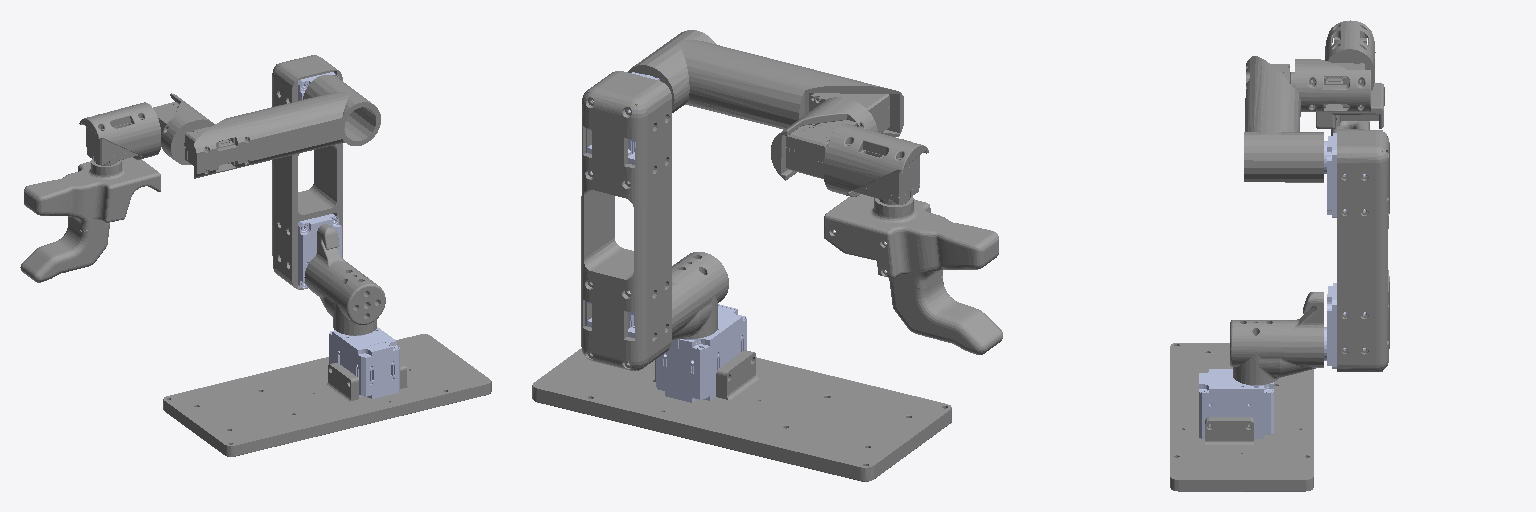
The robot description file, URDF, robot "gello_active":
<?xml version="1.0" encoding="utf-8"?>
<!-- This URDF was automatically created by SolidWorks to URDF Exporter! Originally created by [author] ([email redacted]) 
     Commit Version: 1.6.0-4-g7f85cfe  Build Version: 1.6.7995.38578
     For more information, please see http://wiki.ros.org/sw_urdf_exporter -->
<robot
  name="gello_active">
  <link
    name="base_link">
    <inertial>
      <origin
        xyz="0.00607992357022163 0.00301681012562898 -0.0120084237052049"
        rpy="0 0 0" />
      <mass
        value="0.141701823329413" />
      <inertia
        ixx="9.16590245869373E-05"
        ixy="4.41747452799809E-07"
        ixz="-1.46076004773529E-06"
        iyy="0.000464772999996468"
        iyz="4.39975233128003E-07"
        izz="0.000553493733719803" />
    </inertial>
    <visual>
      <origin
        xyz="0 0 0"
        rpy="0 0 0" />
      <geometry>
        <mesh
          filename="package://gello_active/meshes/base_link.STL" />
      </geometry>
      <material
        name="">
        <color
          rgba="0.627450980392157 0.627450980392157 0.627450980392157 1" />
      </material>
    </visual>
    <collision>
      <origin
        xyz="0 0 0"
        rpy="0 0 0" />
      <geometry>
        <mesh
          filename="package://gello_active/meshes/base_link.STL" />
      </geometry>
    </collision>
  </link>
  <link
    name="xl430_1">
    <inertial>
      <origin
        xyz="1.5967816055059E-05 -0.0231678735095451 0.189804632480122"
        rpy="0 0 0" />
      <mass
        value="0.0422899908141637" />
      <inertia
        ixx="1.14363623470572E-05"
        ixy="2.19257344028899E-08"
        ixz="1.93744470134444E-08"
        iyy="6.66551225129734E-06"
        iyz="-3.26219221789726E-07"
        izz="1.03632749606566E-05" />
    </inertial>
    <visual>
      <origin
        xyz="0 0 0"
        rpy="0 0 0" />
      <geometry>
        <mesh
          filename="package://gello_active/meshes/xl430_1.STL" />
      </geometry>
      <material
        name="">
        <color
          rgba="0.792156862745098 0.819607843137255 0.933333333333333 1" />
      </material>
    </visual>
    <collision>
      <origin
        xyz="0 0 0"
        rpy="0 0 0" />
      <geometry>
        <mesh
          filename="package://gello_active/meshes/xl430_1.STL" />
      </geometry>
    </collision>
  </link>
  <joint
    name="base_fix_joint"
    type="fixed">
    <origin
      xyz="0.031148 0.02289 -0.18013"
      rpy="0 0 0" />
    <parent
      link="base_link" />
    <child
      link="xl430_1" />
    <axis
      xyz="0 0 0" />
  </joint>
  <link
    name="L1">
    <inertial>
      <origin
        xyz="0.0131095359774512 0.0200185962795386 3.85052656877438E-08"
        rpy="0 0 0" />
      <mass
        value="0.0422302330046642" />
      <inertia
        ixx="7.36420707897911E-06"
        ixy="-2.04999859782137E-06"
        ixz="4.80873013798741E-11"
        iyy="1.39050823217511E-05"
        iyz="-9.88240135826397E-13"
        izz="1.64424364389766E-05" />
    </inertial>
    <visual>
      <origin
        xyz="0 0 0"
        rpy="0 0 0" />
      <geometry>
        <mesh
          filename="package://gello_active/meshes/L1.STL" />
      </geometry>
      <material
        name="">
        <color
          rgba="0.627450980392157 0.627450980392157 0.627450980392157 1" />
      </material>
    </visual>
    <collision>
      <origin
        xyz="0 0 0"
        rpy="0 0 0" />
      <geometry>
        <mesh
          filename="package://gello_active/meshes/L1.STL" />
      </geometry>
    </collision>
  </link>
  <joint
    name="shoulder_pan_joint"
    type="continuous">
    <origin
      xyz="0 -0.011 0.20764"
      rpy="1.5708 0 1.5588" />
    <parent
      link="xl430_1" />
    <child
      link="L1" />
    <axis
      xyz="0 1 0" />
  </joint>
  <link
    name="xl430_2">
    <inertial>
      <origin
        xyz="1.59678160428812E-05 -0.0121678735095403 -0.0205450583333916"
        rpy="0 0 0" />
      <mass
        value="0.0422899908141372" />
      <inertia
        ixx="1.14363623457656E-05"
        ixy="2.19257342941186E-08"
        ixz="1.93744470209128E-08"
        iyy="6.6655122500993E-06"
        iyz="-3.26219221776539E-07"
        izz="1.03632749584015E-05" />
    </inertial>
    <visual>
      <origin
        xyz="0 0 0"
        rpy="0 0 0" />
      <geometry>
        <mesh
          filename="package://gello_active/meshes/xl430_2.STL" />
      </geometry>
      <material
        name="">
        <color
          rgba="0.792156862745098 0.819607843137255 0.933333333333333 1" />
      </material>
    </visual>
    <collision>
      <origin
        xyz="0 0 0"
        rpy="0 0 0" />
      <geometry>
        <mesh
          filename="package://gello_active/meshes/xl430_2.STL" />
      </geometry>
    </collision>
  </link>
  <joint
    name="shoulder_lift_joint"
    type="continuous">
    <origin
      xyz="0.03915 0.021935 0"
      rpy="1.5708 1.5675 -1.5708" />
    <parent
      link="L1" />
    <child
      link="xl430_2" />
    <axis
      xyz="0 0 1" />
  </joint>
  <link
    name="L2">
    <inertial>
      <origin
        xyz="0.0177542994227649 2.65439271743273E-08 -0.0453750285135328"
        rpy="0 0 0" />
      <mass
        value="0.0546858829355452" />
      <inertia
        ixx="0.000116370950741875"
        ixy="1.81389221602465E-11"
        ixz="-2.92213419206246E-11"
        iyy="0.000110173032075185"
        iyz="6.97646032473169E-11"
        izz="1.63865438538971E-05" />
    </inertial>
    <visual>
      <origin
        xyz="0 0 0"
        rpy="0 0 0" />
      <geometry>
        <mesh
          filename="package://gello_active/meshes/L2.STL" />
      </geometry>
      <material
        name="">
        <color
          rgba="0.627450980392157 0.627450980392157 0.627450980392157 1" />
      </material>
    </visual>
    <collision>
      <origin
        xyz="0 0 0"
        rpy="0 0 0" />
      <geometry>
        <mesh
          filename="package://gello_active/meshes/L2.STL" />
      </geometry>
    </collision>
  </link>
  <joint
    name="L2_fix_joint_1"
    type="fixed">
    <origin
      xyz="0 -0.0178 -0.04565"
      rpy="1.5708 -1.5708 3.14" />
    <parent
      link="xl430_2" />
    <child
      link="L2" />
    <axis
      xyz="0 0 0" />
  </joint>
  <link
    name="xl430_3">
    <inertial>
      <origin
        xyz="1.59678160644369E-05 -0.0231678735095394 0.189804632480152"
        rpy="0 0 0" />
      <mass
        value="0.0422899908141366" />
      <inertia
        ixx="1.14363623457538E-05"
        ixy="2.19257343254807E-08"
        ixz="1.93744470444507E-08"
        iyy="6.66551225006578E-06"
        iyz="-3.26219221780501E-07"
        izz="1.03632749583609E-05" />
    </inertial>
    <visual>
      <origin
        xyz="0 0 0"
        rpy="0 0 0" />
      <geometry>
        <mesh
          filename="package://gello_active/meshes/xl430_3.STL" />
      </geometry>
      <material
        name="">
        <color
          rgba="0.792156862745098 0.819607843137255 0.933333333333333 1" />
      </material>
    </visual>
    <collision>
      <origin
        xyz="0 0 0"
        rpy="0 0 0" />
      <geometry>
        <mesh
          filename="package://gello_active/meshes/xl430_3.STL" />
      </geometry>
    </collision>
  </link>
  <joint
    name="L2_fix_joint_2"
    type="fixed">
    <origin
      xyz="-0.1647 0 -0.11955"
      rpy="-1.5708 0 -1.5708" />
    <parent
      link="L2" />
    <child
      link="xl430_3" />
    <axis
      xyz="0 0 0" />
  </joint>
  <link
    name="L3">
    <inertial>
      <origin
        xyz="-0.0301727625382926 7.29364901808083E-09 0.0367965289329686"
        rpy="0 0 0" />
      <mass
        value="0.0492342604004969" />
      <inertia
        ixx="6.65552530347298E-05"
        ixy="-2.34601443151155E-10"
        ixz="1.10060129110157E-05"
        iyy="7.13375971649568E-05"
        iyz="-8.67163895975908E-11"
        izz="1.44416116216454E-05" />
    </inertial>
    <visual>
      <origin
        xyz="0 0 0"
        rpy="0 0 0" />
      <geometry>
        <mesh
          filename="package://gello_active/meshes/L3.STL" />
      </geometry>
      <material
        name="">
        <color
          rgba="0.627450980392157 0.627450980392157 0.627450980392157 1" />
      </material>
    </visual>
    <collision>
      <origin
        xyz="0 0 0"
        rpy="0 0 0" />
      <geometry>
        <mesh
          filename="package://gello_active/meshes/L3.STL" />
      </geometry>
    </collision>
  </link>
  <joint
    name="elbow_joint"
    type="continuous">
    <origin
      xyz="0 -0.011 0.20635"
      rpy="3.1391 1.5708 0" />
    <parent
      link="xl430_3" />
    <child
      link="L3" />
    <axis
      xyz="1 0 0" />
  </joint>
  <link
    name="xl330_1">
    <inertial>
      <origin
        xyz="0.075420933410812 0.0347673256207063 0.382628050770604"
        rpy="0 0 0" />
      <mass
        value="0.0152279846230564" />
      <inertia
        ixx="2.17665876063418E-06"
        ixy="4.53367975855433E-10"
        ixz="3.44547193193838E-10"
        iyy="1.18539413924355E-06"
        iyz="3.78846786423317E-08"
        izz="1.9254867966804E-06" />
    </inertial>
    <visual>
      <origin
        xyz="0 0 0"
        rpy="0 0 0" />
      <geometry>
        <mesh
          filename="package://gello_active/meshes/xl330_1.STL" />
      </geometry>
      <material
        name="">
        <color
          rgba="0.627450980392157 0.627450980392157 0.627450980392157 1" />
      </material>
    </visual>
    <collision>
      <origin
        xyz="0 0 0"
        rpy="0 0 0" />
      <geometry>
        <mesh
          filename="package://gello_active/meshes/xl330_1.STL" />
      </geometry>
    </collision>
  </link>
  <joint
    name="L3_fix_joint"
    type="fixed">
    <origin
      xyz="-0.4171 0.075425 0.13419"
      rpy="-1.5708 0 -1.5708" />
    <parent
      link="L3" />
    <child
      link="xl330_1" />
    <axis
      xyz="0 0 0" />
  </joint>
  <link
    name="L4">
    <inertial>
      <origin
        xyz="-0.000477072229915942 0.00401650330059737 0.0139990913771146"
        rpy="0 0 0" />
      <mass
        value="0.0140660643273876" />
      <inertia
        ixx="3.63687535667914E-06"
        ixy="-9.74097096280489E-11"
        ixz="-2.49888518797472E-10"
        iyy="3.33041431373118E-06"
        iyz="-8.98088497865558E-07"
        izz="2.39230639555156E-06" />
    </inertial>
    <visual>
      <origin
        xyz="0 0 0"
        rpy="0 0 0" />
      <geometry>
        <mesh
          filename="package://gello_active/meshes/L4.STL" />
      </geometry>
      <material
        name="">
        <color
          rgba="0.627450980392157 0.627450980392157 0.627450980392157 1" />
      </material>
    </visual>
    <collision>
      <origin
        xyz="0 0 0"
        rpy="0 0 0" />
      <geometry>
        <mesh
          filename="package://gello_active/meshes/L4.STL" />
      </geometry>
    </collision>
  </link>
  <joint
    name="wrist1_joint"
    type="continuous">
    <origin
      xyz="0.075425 0.027592 0.39603"
      rpy="0 0 -0.0253" />
    <parent
      link="xl330_1" />
    <child
      link="L4" />
    <axis
      xyz="0 0 1" />
  </joint>
  <link
    name="xl330_2">
    <inertial>
      <origin
        xyz="0.0754209334106387 0.0347673256204681 0.38262805076857"
        rpy="0 0 0" />
      <mass
        value="0.0152279846189667" />
      <inertia
        ixx="2.17665876004823E-06"
        ixy="4.53367993856033E-10"
        ixz="3.44547213162623E-10"
        iyy="1.18539413891491E-06"
        iyz="3.7884678633927E-08"
        izz="1.92548679613301E-06" />
    </inertial>
    <visual>
      <origin
        xyz="0 0 0"
        rpy="0 0 0" />
      <geometry>
        <mesh
          filename="package://gello_active/meshes/xl330_2.STL" />
      </geometry>
      <material
        name="">
        <color
          rgba="0.627450980392157 0.627450980392157 0.627450980392157 1" />
      </material>
    </visual>
    <collision>
      <origin
        xyz="0 0 0"
        rpy="0 0 0" />
      <geometry>
        <mesh
          filename="package://gello_active/meshes/xl330_2.STL" />
      </geometry>
    </collision>
  </link>
  <joint
    name="L4_fix_joint"
    type="fixed">
    <origin
      xyz="0.07495 0.38155 0.061433"
      rpy="-1.5708 0 -3.1416" />
    <parent
      link="L4" />
    <child
      link="xl330_2" />
    <axis
      xyz="0 0 0" />
  </joint>
  <link
    name="L5">
    <inertial>
      <origin
        xyz="-0.00366525305716781 -0.0146866156468189 -5.58749708168271E-08"
        rpy="0 0 0" />
      <mass
        value="0.0143126365472127" />
      <inertia
        ixx="3.29740959153761E-06"
        ixy="-7.98147494033704E-07"
        ixz="-1.40516069342754E-11"
        iyy="2.50168725783588E-06"
        iyz="-9.74587155325639E-12"
        izz="3.45618139699858E-06" />
    </inertial>
    <visual>
      <origin
        xyz="0 0 0"
        rpy="0 0 0" />
      <geometry>
        <mesh
          filename="package://gello_active/meshes/L5.STL" />
      </geometry>
      <material
        name="">
        <color
          rgba="0.627450980392157 0.627450980392157 0.627450980392157 1" />
      </material>
    </visual>
    <collision>
      <origin
        xyz="0 0 0"
        rpy="0 0 0" />
      <geometry>
        <mesh
          filename="package://gello_active/meshes/L5.STL" />
      </geometry>
    </collision>
  </link>
  <joint
    name="wrist2_joint"
    type="continuous">
    <origin
      xyz="0.075425 0.027592 0.39554"
      rpy="-1.5708 0 0.0015559" />
    <parent
      link="xl330_2" />
    <child
      link="L5" />
    <axis
      xyz="0 1 0" />
  </joint>
  <link
    name="xl330_3">
    <inertial>
      <origin
        xyz="0.0754209334109733 0.034767325620958 0.382628050772475"
        rpy="0 0 0" />
      <mass
        value="0.0152279846267835" />
      <inertia
        ixx="2.17665876117142E-06"
        ixy="4.53367959448234E-10"
        ixz="3.4454717404982E-10"
        iyy="1.18539413954641E-06"
        iyz="3.78846786476651E-08"
        izz="1.92548679717928E-06" />
    </inertial>
    <visual>
      <origin
        xyz="0 0 0"
        rpy="0 0 0" />
      <geometry>
        <mesh
          filename="package://gello_active/meshes/xl330_3.STL" />
      </geometry>
      <material
        name="">
        <color
          rgba="0.627450980392157 0.627450980392157 0.627450980392157 1" />
      </material>
    </visual>
    <collision>
      <origin
        xyz="0 0 0"
        rpy="0 0 0" />
      <geometry>
        <mesh
          filename="package://gello_active/meshes/xl330_3.STL" />
      </geometry>
    </collision>
  </link>
  <joint
    name="L5_fix_joint"
    type="fixed">
    <origin
      xyz="-0.38197 -0.06135 0.075425"
      rpy="0 1.5708 0" />
    <parent
      link="L5" />
    <child
      link="xl330_3" />
    <axis
      xyz="0 0 0" />
  </joint>
  <link
    name="end_effector">
    <inertial>
      <origin
        xyz="-0.000754673739559147 0.0314156499838131 0.019054370079741"
        rpy="0 0 0" />
      <mass
        value="0.0630826138989227" />
      <inertia
        ixx="5.12626208541799E-05"
        ixy="-4.41415959130818E-07"
        ixz="-8.39849396262855E-07"
        iyy="3.14722675313067E-05"
        iyz="-1.08025214958209E-05"
        izz="3.0200102348622E-05" />
    </inertial>
    <visual>
      <origin
        xyz="0 0 0"
        rpy="0 0 0" />
      <geometry>
        <mesh
          filename="package://gello_active/meshes/end_effector.STL" />
      </geometry>
      <material
        name="">
        <color
          rgba="0.627450980392157 0.627450980392157 0.627450980392157 1" />
      </material>
    </visual>
    <collision>
      <origin
        xyz="0 0 0"
        rpy="0 0 0" />
      <geometry>
        <mesh
          filename="package://gello_active/meshes/end_effector.STL" />
      </geometry>
    </collision>
  </link>
  <joint
    name="end_effector_joint"
    type="continuous">
    <origin
      xyz="0.075425 0.027592 0.39645"
      rpy="1.5708 0 -0.0035937" />
    <parent
      link="xl330_3" />
    <child
      link="end_effector" />
    <axis
      xyz="0 1 0" />
  </joint>
</robot>

--- Render facts (derived) ---
The picture shows the robot from 3 angles, left to right: view 1: azimuth 30°, elevation 25°; view 2: azimuth 150°, elevation 25°; view 3: azimuth 270°, elevation 25°; orthographic projection.
Model gello_active with 13 links and 12 joints (6 continuous, 6 fixed), rooted at base_link, posed all joints at 0.
Links seen in each view (by area): view 1: base_link, L3, end_effector, L2, L1, xl430_1, L5, L4, xl430_2, xl330_3, xl330_1; view 2: base_link, L2, end_effector, L3, xl430_1, L5, L1, L4, xl330_2, xl330_3, xl330_1; view 3: base_link, L2, L3, L1, xl430_1, L4, L5, end_effector, xl430_2, xl430_3.
Link boxes in pixels (left/top/right/bottom): base_link: left=163, top=334, right=491, bottom=456; L3: left=193, top=75, right=380, bottom=178; end_effector: left=20, top=157, right=160, bottom=282; L2: left=272, top=55, right=342, bottom=289; L1: left=304, top=224, right=385, bottom=335; xl430_1: left=329, top=327, right=399, bottom=398; L5: left=79, top=102, right=160, bottom=159; L4: left=161, top=93, right=214, bottom=164; xl430_2: left=298, top=214, right=341, bottom=288; xl330_3: left=86, top=123, right=138, bottom=165; xl330_1: left=184, top=126, right=245, bottom=169; base_link: left=532, top=348, right=951, bottom=481; L2: left=581, top=71, right=671, bottom=370; end_effector: left=824, top=194, right=1002, bottom=354; L3: left=628, top=30, right=903, bottom=136; xl430_1: left=656, top=304, right=746, bottom=402; L5: left=824, top=124, right=928, bottom=196; L1: left=672, top=252, right=728, bottom=339; L4: left=771, top=97, right=877, bottom=180; xl330_2: left=786, top=120, right=856, bottom=178; xl330_3: left=854, top=150, right=919, bottom=204; xl330_1: left=809, top=93, right=889, bottom=132; base_link: left=1170, top=343, right=1313, bottom=491; L2: left=1337, top=129, right=1389, bottom=371; L3: left=1244, top=56, right=1323, bottom=182; L1: left=1230, top=292, right=1323, bottom=384; xl430_1: left=1199, top=369, right=1273, bottom=438; L4: left=1295, top=59, right=1370, bottom=112; L5: left=1325, top=20, right=1375, bottom=90; end_effector: left=1316, top=83, right=1384, bottom=135; xl430_2: left=1324, top=283, right=1365, bottom=368; xl430_3: left=1324, top=133, right=1365, bottom=217.
Bounding box of the posed robot: 0.2867 × 0.1347 × 0.2089 m (x, y, z).
Meshes: 13 distinct files referenced, 13 mesh visuals loaded (13 binary STL).